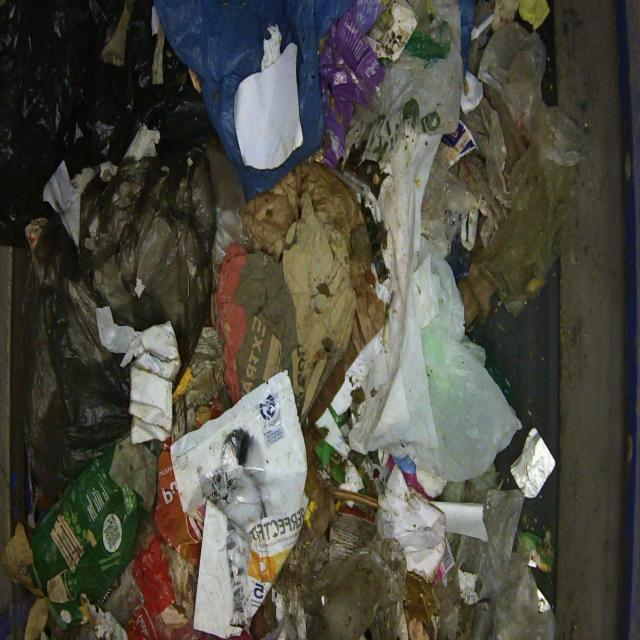other-trash: (2, 0, 578, 638)
